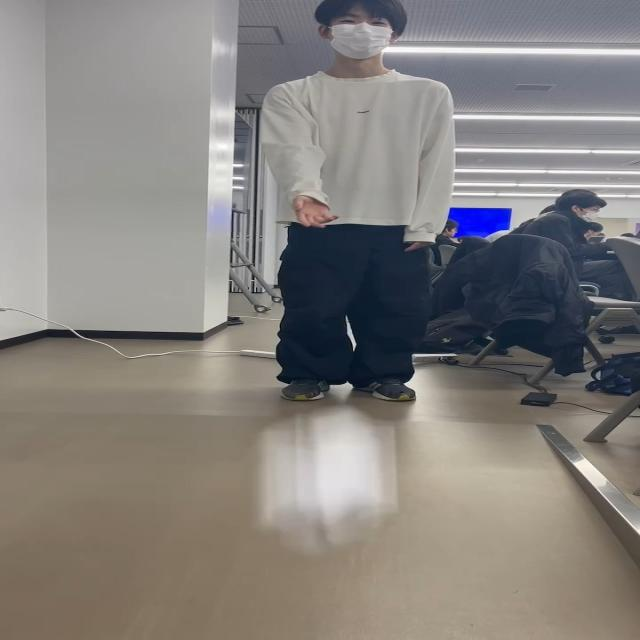paper: (253, 408, 402, 551)
